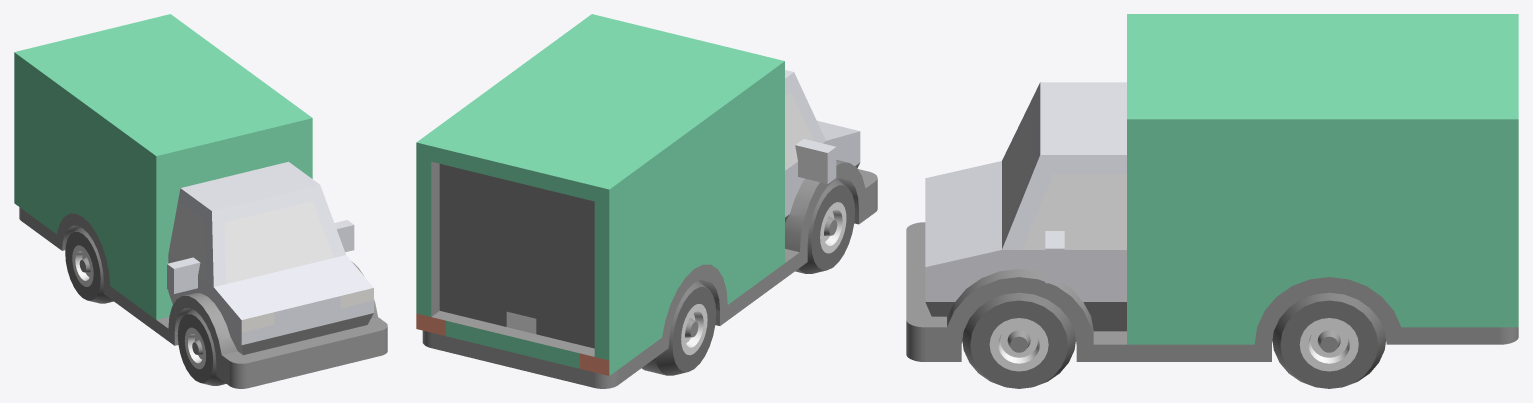
Rendered from delivery.gltf.
3 renders of one model, left to right at view 1: azimuth 30°, elevation 25°; view 2: azimuth 150°, elevation 25°; view 3: azimuth 270°, elevation 25°, orthographic. The views are drawn at different scales.
Parts seen in each view (by area): view 1: delivery; view 2: delivery; view 3: delivery.
Part boxes in pixels (<box>): delivery: <box>14,14,387,388</box>; delivery: <box>416,14,877,388</box>; delivery: <box>906,14,1518,388</box>.
Bounding box in the file's own units: 1.12 × 1.2 × 2.4.
